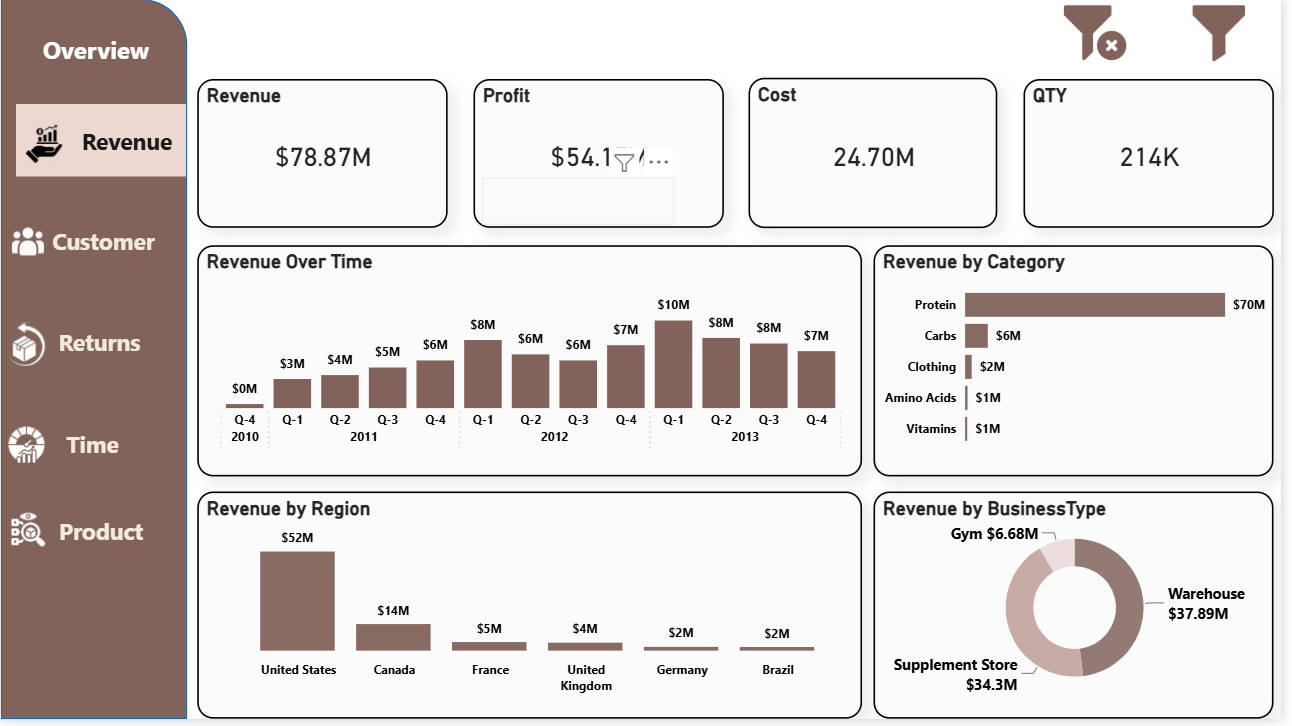

What the dashboard file says about the page in this screenshot:
{"tool":"powerbi","page":{"name":"Revenue ","canvas":[1280,720],"ordinal":1},"visuals":[{"type":"card","title":"Cost","fields":{"Values":["Calculation.Cost"]},"box":[747.5,78.8,248.8,150],"z":0},{"type":"card","title":"Profit","fields":{"Values":["Calculation.Profit"]},"box":[472.5,80,250,148.8],"z":1000},{"type":"card","title":"Revenue","fields":{"Values":["Calculation.Revenue"]},"box":[196.2,80,250,148.8],"z":2000},{"type":"card","fields":{"Values":["Calculation.Var LY Rev Card"]},"box":[196.2,177.5,192.5,52.5],"z":3000},{"type":"card","fields":{"Values":["Calculation.Arrow Rev"]},"box":[402.5,181.2,43.8,50],"z":4000},{"type":"lineStackedColumnComboChart","title":"Revenue Over Time","fields":{"Category":["Calender.Year Hierarchy.Year","Calender.Year Hierarchy.Quarter Name"],"Y":["Calculation.Revenue"]},"box":[196.2,246.2,665,231.2],"z":5000},{"type":"clusteredColumnChart","title":"Revenue by Region","fields":{"Y":["Calculation.Revenue"],"Category":["Customer.CountryName"]},"box":[196.2,492.5,665,227.5],"z":6000},{"type":"donutChart","fields":{"Y":["Calculation.Revenue"],"Category":["Customer.BusinessType"]},"box":[872.5,492.5,400,227.5],"z":7000},{"type":"clusteredBarChart","title":"Revenue by Category","fields":{"Category":["Product.Product Sub Category.CategoryName","Product.Product Sub Category.SubcategoryName"],"Y":["Calculation.Revenue"]},"box":[872.5,246.2,400,231.2],"z":8000},{"type":"card","fields":{"Values":["Calculation.Var LY Profit Card"]},"box":[481.2,178.8,192.5,47.5],"z":9000},{"type":"card","fields":{"Values":["Calculation.Arrow Profit"]},"box":[673.8,178.8,53.8,50],"z":10000},{"type":"card","fields":{"Values":["Calculation.Var Ly Cost Card"]},"box":[760,178.8,183.8,50],"z":11000},{"type":"card","fields":{"Values":["Calculation.Arrow Cost"]},"box":[957.5,180,42.5,50],"z":12000},{"type":"card","title":"QTY","fields":{"Values":["Calculation.QTY"]},"box":[1022.5,80,250,148.8],"z":13000},{"type":"card","fields":{"Values":["Calculation.Var Ly QTY Card"]},"box":[1022.5,177.5,183.8,50],"z":14000},{"type":"card","fields":{"Values":["Calculation.Arrow QTY"]},"box":[1220,178.8,42.5,50],"z":15000},{"type":"image","box":[1032.9,2.5,123.5,62.4],"z":16000},{"type":"image","box":[1156.5,6.4,123.5,56],"z":17000},{"type":"shape","box":[0,0,186.2,720],"z":17500},{"type":"actionButton","box":[15,105,170,72.5],"z":20000},{"type":"actionButton","box":[1.2,202.1,185,77.5],"z":21000},{"type":"actionButton","box":[4.3,222.9,47.1,40],"z":22000},{"type":"actionButton","box":[12.5,0,165,100],"z":23000},{"type":"actionButton","box":[15,121.2,55,47.5],"z":24000},{"type":"actionButton","box":[0,492.5,186.2,77.5],"z":25000},{"type":"actionButton","box":[2.5,507.5,50,46.2],"z":26000},{"type":"actionButton","box":[0,406.2,185,77.5],"z":27000},{"type":"actionButton","box":[0,422.5,51.2,46.2],"z":28000},{"type":"actionButton","box":[2.5,304.2,185,77.5],"z":29000},{"type":"actionButton","box":[0,311.2,51.2,62.5],"z":30000}]}

Visuals, with their boxes in screenshot pixels (x1, y1, x2, y2), scaled from the page's 1280x720 canvas onto the 1292x726 screenshot:
"Cost" card: region(755, 79, 1006, 231)
"Profit" card: region(477, 81, 729, 231)
"Revenue" card: region(198, 81, 450, 231)
card - Calculation.Var LY Rev Card: region(198, 179, 392, 232)
card - Calculation.Arrow Rev: region(406, 183, 450, 233)
"Revenue Over Time" lineStackedColumnComboChart: region(198, 248, 869, 481)
"Revenue by Region" clusteredColumnChart: region(198, 497, 869, 725)
donutChart - Calculation.Revenue x Customer.BusinessType: region(881, 497, 1284, 725)
"Revenue by Category" clusteredBarChart: region(881, 248, 1284, 481)
card - Calculation.Var LY Profit Card: region(486, 180, 680, 228)
card - Calculation.Arrow Profit: region(680, 180, 734, 231)
card - Calculation.Var Ly Cost Card: region(767, 180, 953, 231)
card - Calculation.Arrow Cost: region(966, 182, 1009, 232)
"QTY" card: region(1032, 81, 1284, 231)
card - Calculation.Var Ly QTY Card: region(1032, 179, 1218, 229)
card - Calculation.Arrow QTY: region(1231, 180, 1274, 231)
image: region(1043, 3, 1167, 65)
image: region(1167, 6, 1291, 63)
shape: region(0, 0, 188, 725)
actionButton: region(15, 106, 187, 179)
actionButton: region(1, 204, 188, 282)
actionButton: region(4, 225, 52, 265)
actionButton: region(13, 0, 179, 101)
actionButton: region(15, 122, 71, 170)
actionButton: region(0, 497, 188, 575)
actionButton: region(3, 512, 53, 558)
actionButton: region(0, 410, 187, 488)
actionButton: region(0, 426, 52, 473)
actionButton: region(3, 307, 189, 385)
actionButton: region(0, 314, 52, 377)
